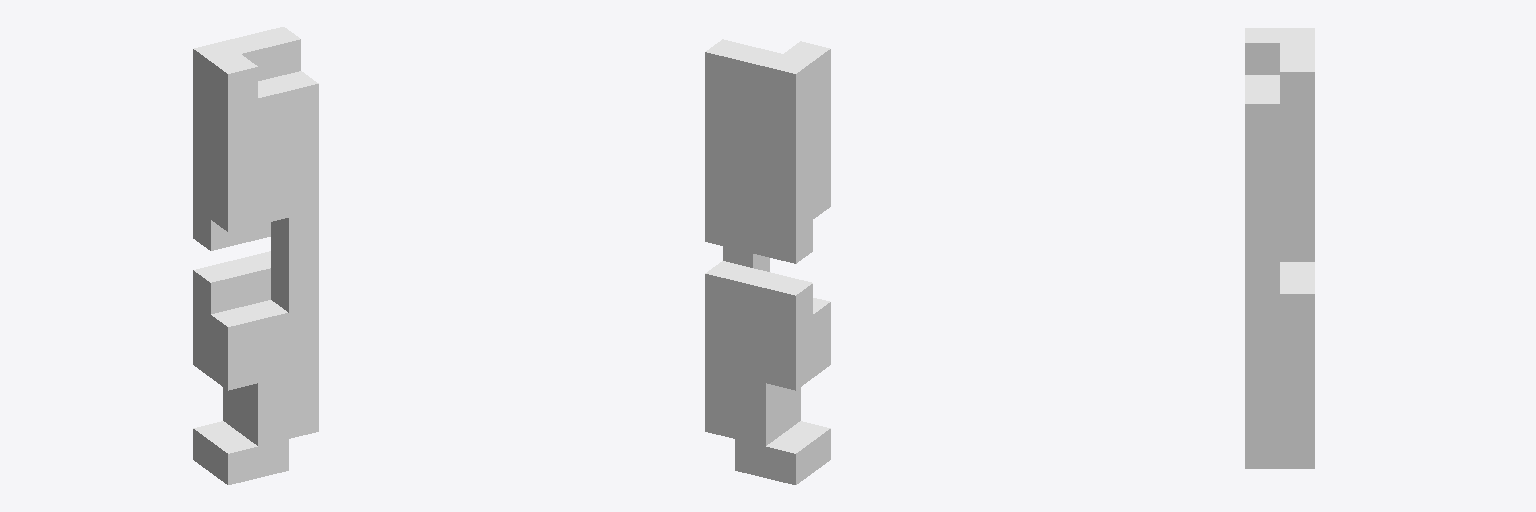
The model's file is golemArmLeft.obj.
3 views of the same model, side by side, from view 1: azimuth 30°, elevation 25°; view 2: azimuth 150°, elevation 25°; view 3: azimuth 270°, elevation 25° (orthographic).
Parts seen in each view (by area): view 1: golemArmLeft; view 2: golemArmLeft; view 3: golemArmLeft.
Part boxes in pixels (bbox=[...]): golemArmLeft: bbox=[193, 27, 318, 484]; golemArmLeft: bbox=[705, 39, 830, 484]; golemArmLeft: bbox=[1245, 28, 1314, 468].
Bounding box in the file's own units: 3 × 13 × 2.